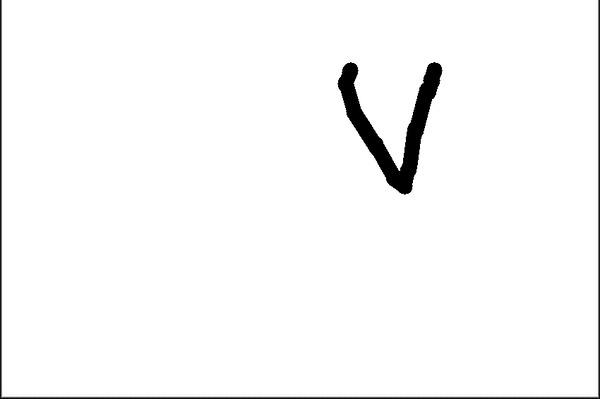V: (334, 52, 455, 206)
